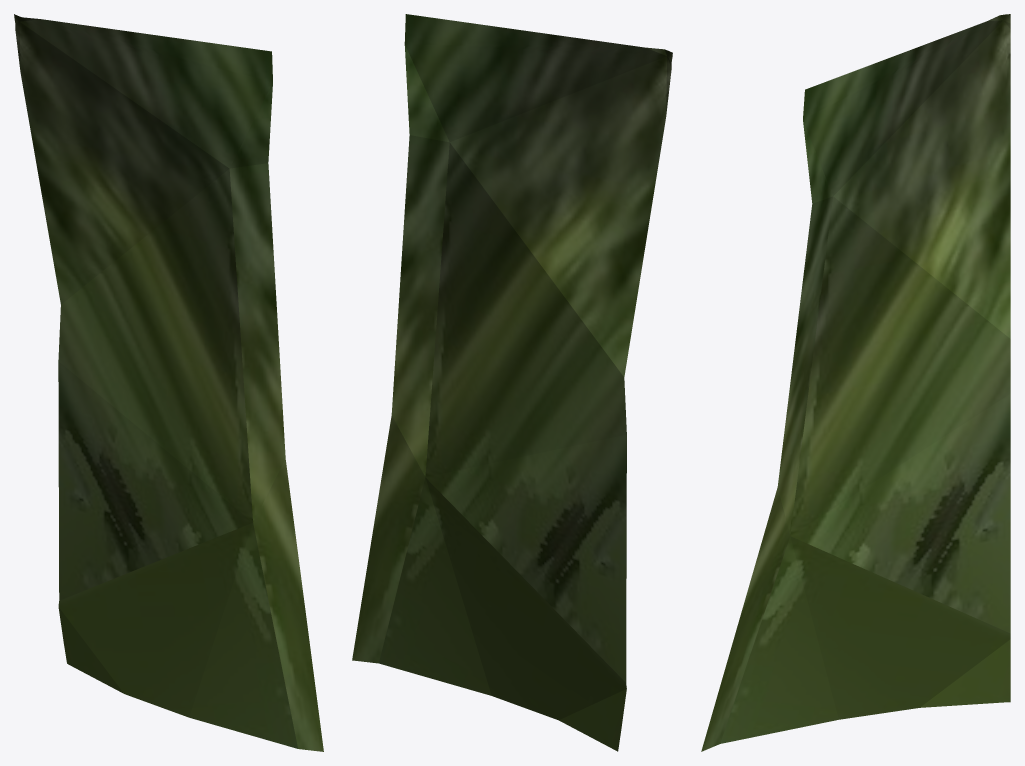
3 views of the same model, side by side, from view 1: azimuth 30°, elevation 25°; view 2: azimuth 210°, elevation 25°; view 3: azimuth 270°, elevation 25° (orthographic). The views are drawn at different scales.
Bounding box in the file's own units: 0.7225 × 2.95 × 1.25.
1 material, 1 textured.
